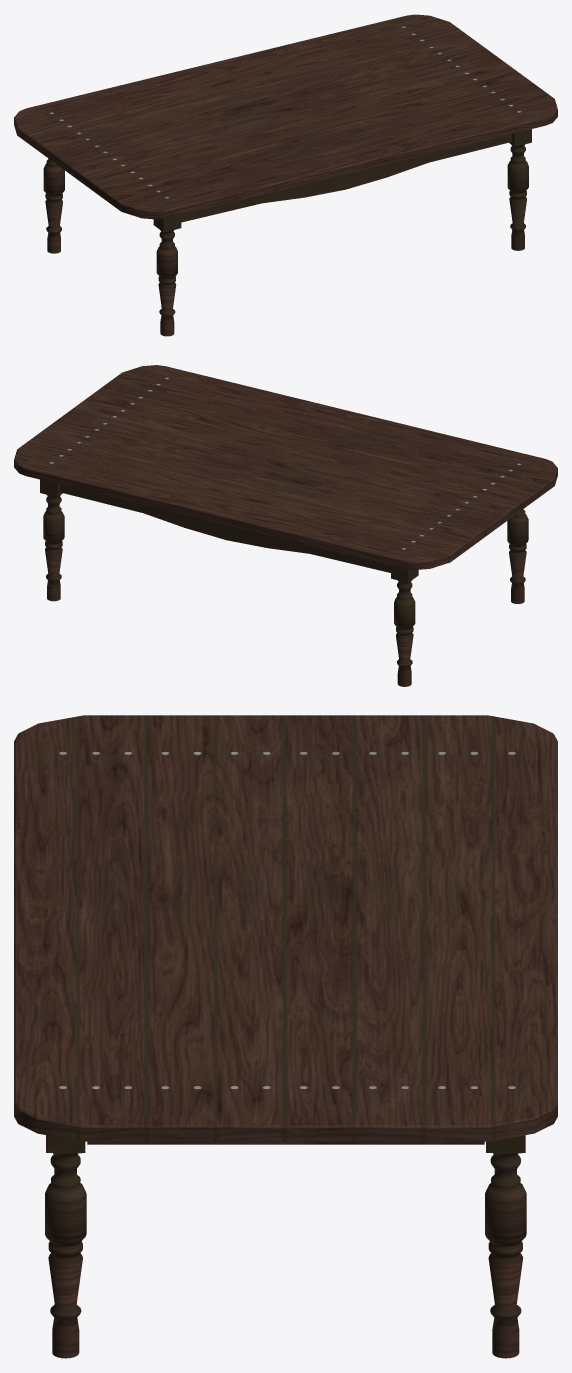
File: obj_lp_table_f4031b.glb
3 renders of one model, top to bottom at view 1: azimuth 30°, elevation 25°; view 2: azimuth 150°, elevation 25°; view 3: azimuth 270°, elevation 25°, orthographic. The views are drawn at different scales.
Parts seen in each view (by area): view 1: obj_lp_table_f4031b; view 2: obj_lp_table_f4031b; view 3: obj_lp_table_f4031b.
Boxes of the visible parts, x1,y1,x2,y2 form: obj_lp_table_f4031b: (14, 14, 557, 336); obj_lp_table_f4031b: (14, 365, 557, 686); obj_lp_table_f4031b: (14, 715, 557, 1358).
Bounding box in the file's own units: 1.49 × 0.45 × 0.8351.
9 materials, 9 textured.
